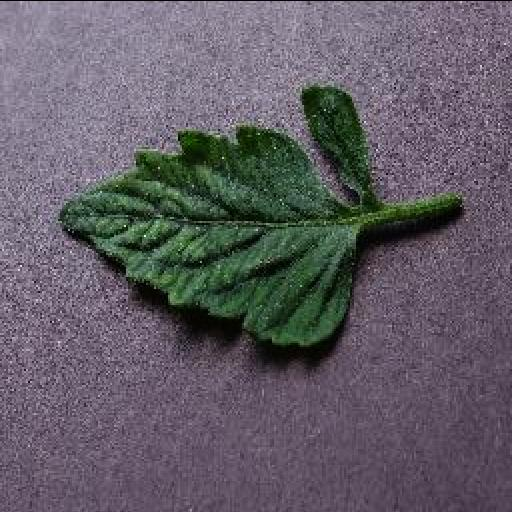disease_tomato: (56, 85, 374, 351)
